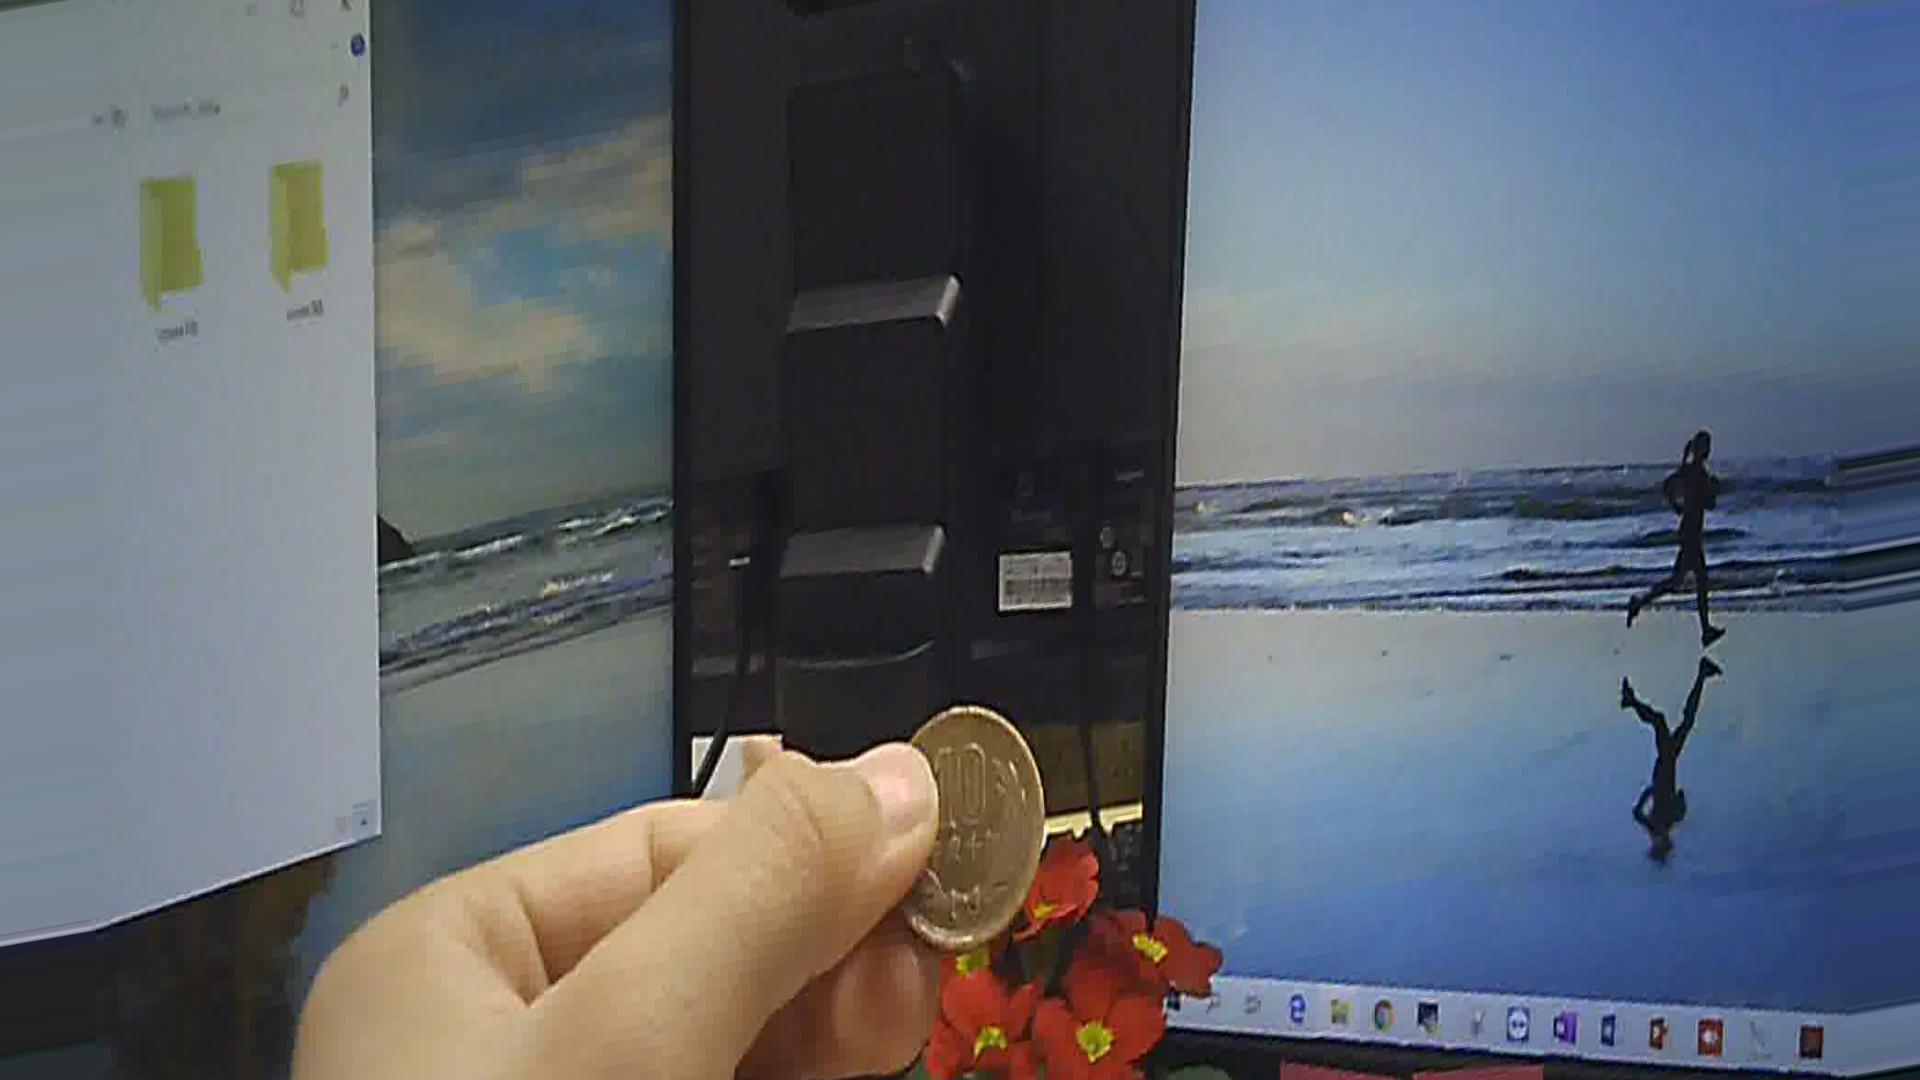10 Yen: (882, 702, 1042, 953)
